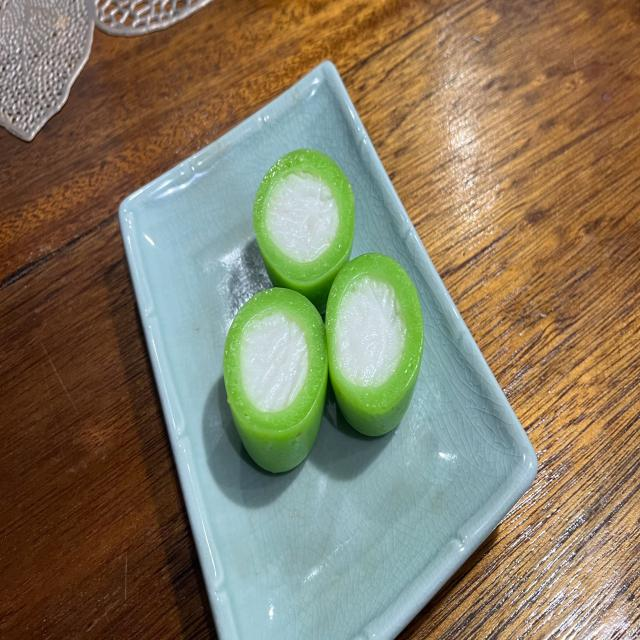nona-manis: (224, 287, 328, 473), (326, 253, 424, 436), (254, 149, 355, 313)
